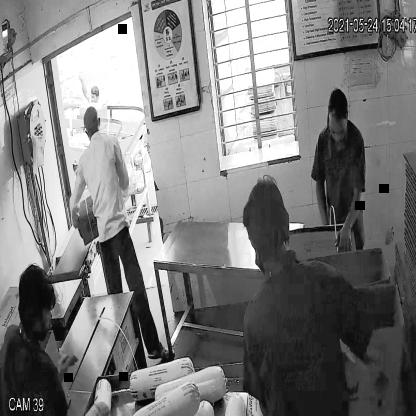goggles: (326, 118, 348, 140)
